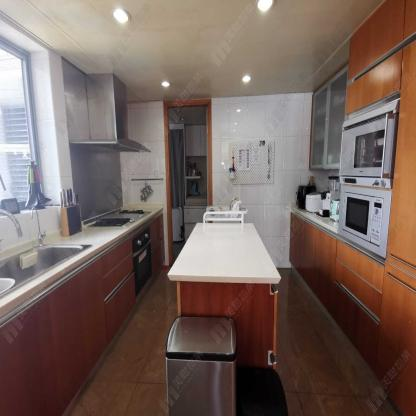Cupboard: (1, 237, 136, 416), (289, 213, 387, 369)
Exhaust Hood: (69, 72, 150, 152)
Oven: (338, 99, 401, 260), (133, 226, 151, 293)
Sink: (1, 243, 92, 297)
Stove: (88, 217, 132, 227), (117, 210, 152, 216)
